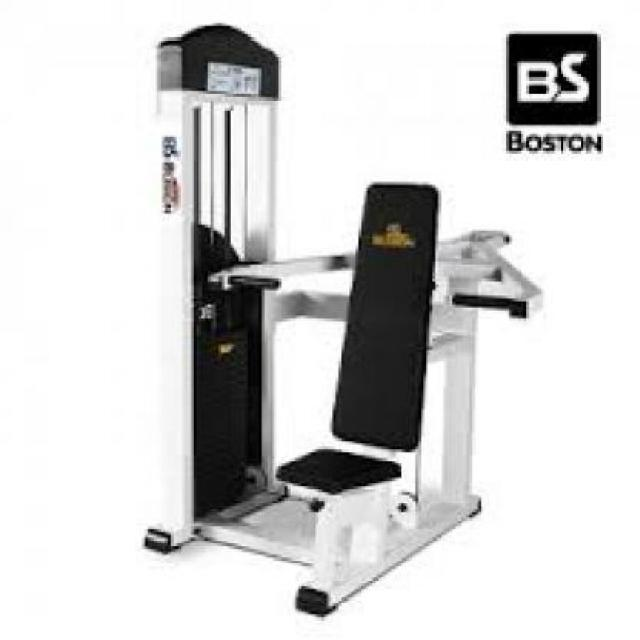shoulder press machine: (114, 13, 555, 624)
